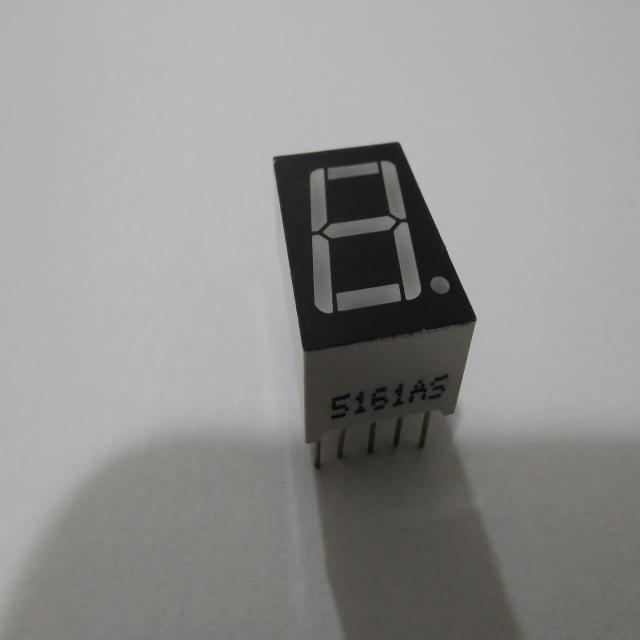7_segments: (263, 134, 486, 468)
